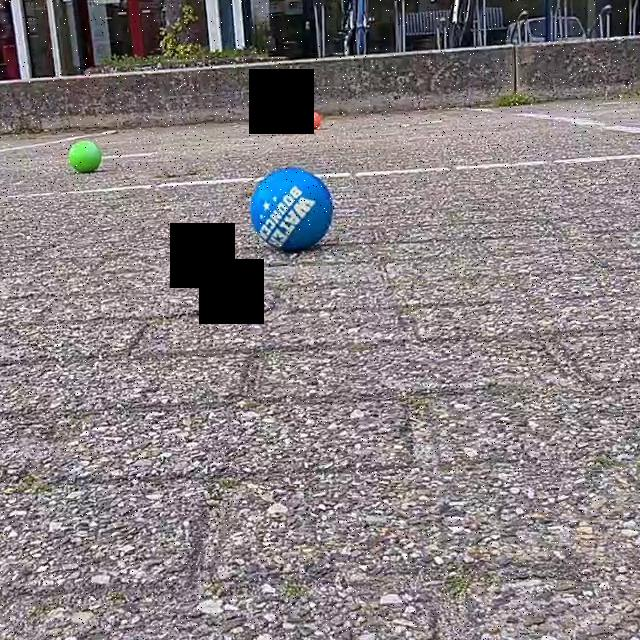ball: (64, 138, 104, 179), (298, 109, 324, 134)
